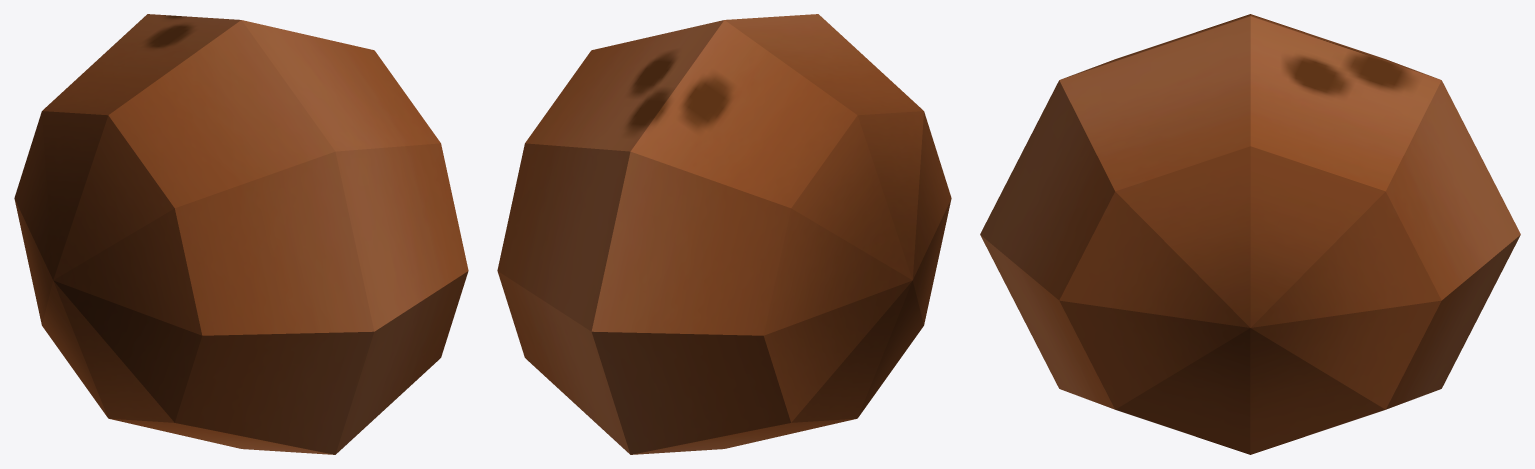
Rendered from Asset_Ress_Coconut.fbx.
3 renders of one model, left to right at view 1: azimuth 30°, elevation 25°; view 2: azimuth 150°, elevation 25°; view 3: azimuth 270°, elevation 25°, orthographic.
Parts seen in each view (by area): view 1: Asset_Ress_Coconut; view 2: Asset_Ress_Coconut; view 3: Asset_Ress_Coconut.
Boxes of the visible parts, x1,y1,x2,y2 form: Asset_Ress_Coconut: (14,14,468,454); Asset_Ress_Coconut: (497,14,951,454); Asset_Ress_Coconut: (980,14,1520,454).
Size of the model in its own units: 18.18 by 19.8 by 22.23.
